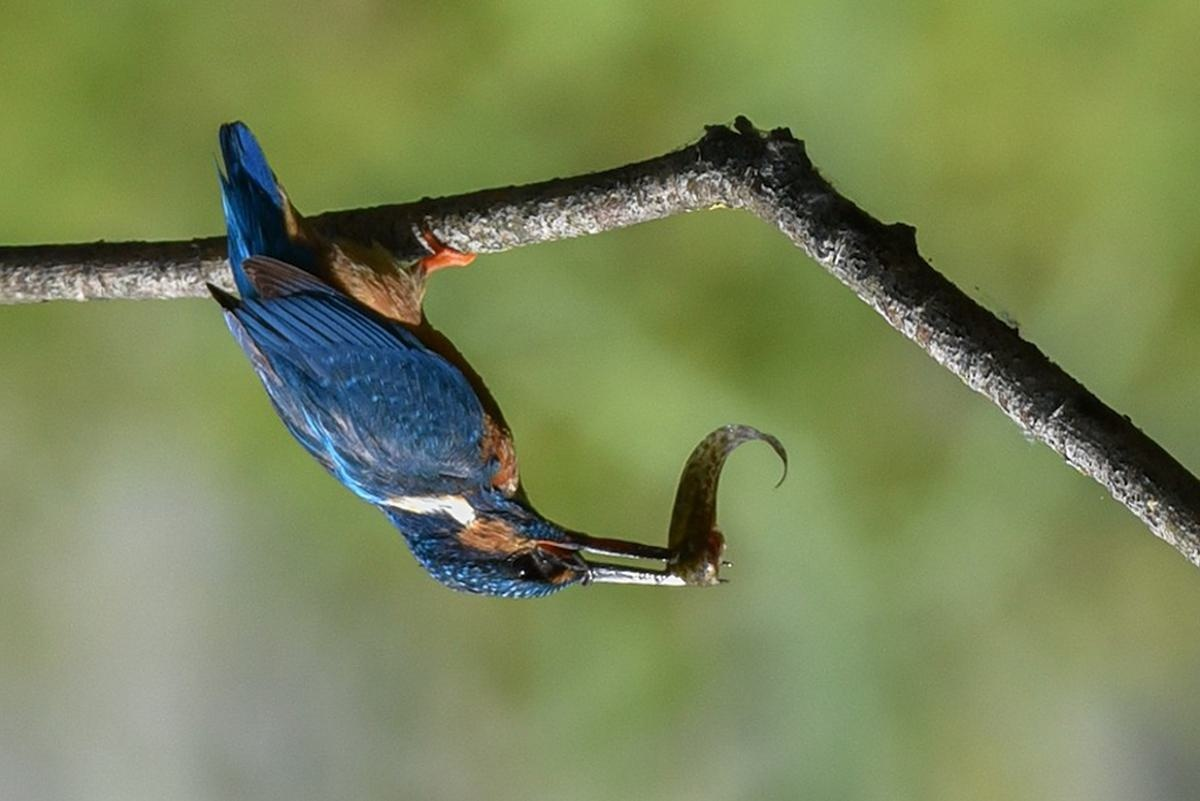kingfisher: (197, 98, 811, 665)
